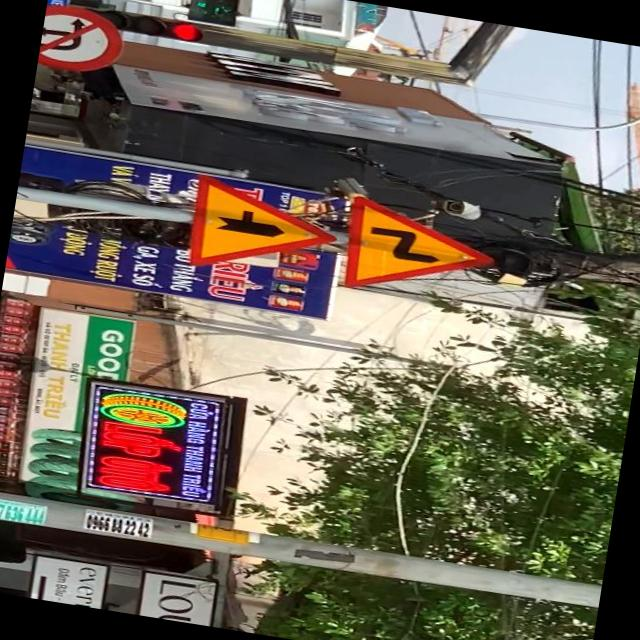W-202b: (342, 194, 501, 310)
W-207c: (184, 170, 344, 286)
